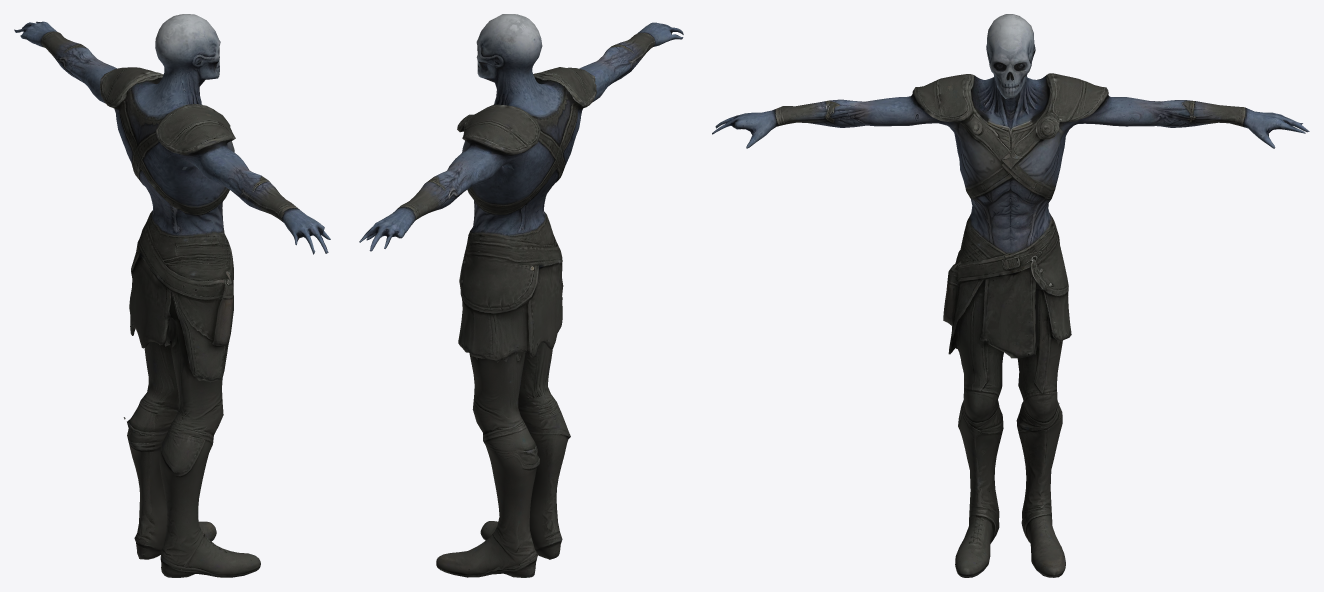
The model's file is tripo_convert_d8ba195a-ef11-491e-a15d-8232d9750b8b.fbx.
3 views of the same model, side by side, from view 1: azimuth 30°, elevation 25°; view 2: azimuth 150°, elevation 25°; view 3: azimuth 270°, elevation 25° (orthographic). The views are drawn at different scales.
Parts seen in each view (by area): view 1: tripo_node_d8ba195a; view 2: tripo_node_d8ba195a; view 3: tripo_node_d8ba195a.
Boxes of the visible parts, left/top/right/bottom form: tripo_node_d8ba195a: left=14, top=14, right=330, bottom=577; tripo_node_d8ba195a: left=359, top=14, right=683, bottom=577; tripo_node_d8ba195a: left=712, top=14, right=1309, bottom=577.
Bounding box in the file's own units: 0.195 × 0.9931 × 1.
